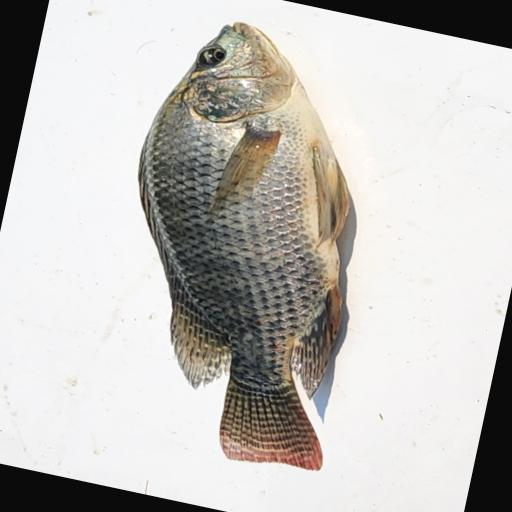Tilapia: (82, 7, 410, 479)
